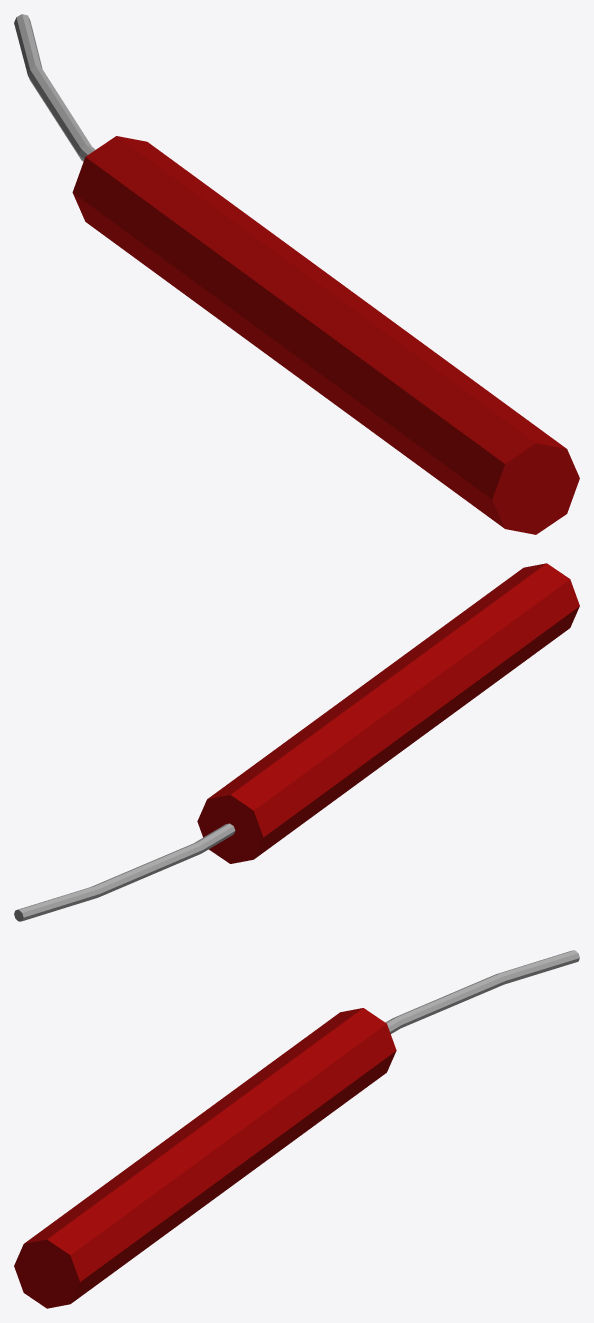
File: Dynamite_01.fbx
The picture shows the model from 3 angles, top to bottom: view 1: azimuth 30°, elevation 25°; view 2: azimuth 150°, elevation 25°; view 3: azimuth 330°, elevation 25°; orthographic projection. The views are drawn at different scales.
Visible parts, largest first — view 1: Dynamite_01; view 2: Dynamite_01; view 3: Dynamite_01.
Part boxes in pixels (x1,y1,x2,y2): Dynamite_01: (14, 14, 579, 534); Dynamite_01: (14, 563, 579, 921); Dynamite_01: (14, 950, 579, 1308).
Bounding box in the file's own units: 8.56 × 5.2 × 62.44.
